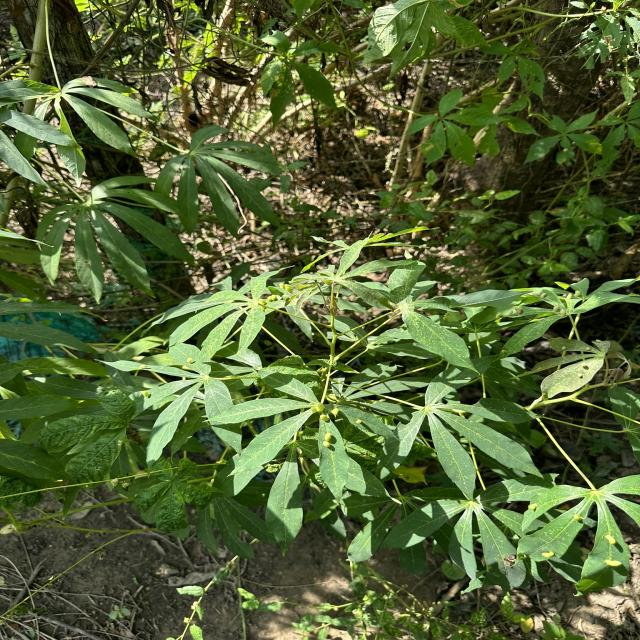Maleza: (14, 358, 132, 494), (4, 459, 203, 539), (378, 85, 503, 177), (364, 6, 501, 74), (493, 205, 640, 265), (532, 92, 592, 181)
Mosca: (309, 396, 346, 433), (533, 538, 565, 563), (601, 552, 633, 569), (562, 285, 589, 305), (576, 359, 593, 388), (569, 509, 596, 527), (251, 295, 272, 316), (603, 530, 624, 549), (524, 499, 545, 518), (320, 429, 335, 455), (282, 279, 300, 300), (142, 384, 158, 401), (262, 292, 282, 305), (181, 351, 198, 366), (534, 288, 551, 303), (548, 300, 562, 314)
